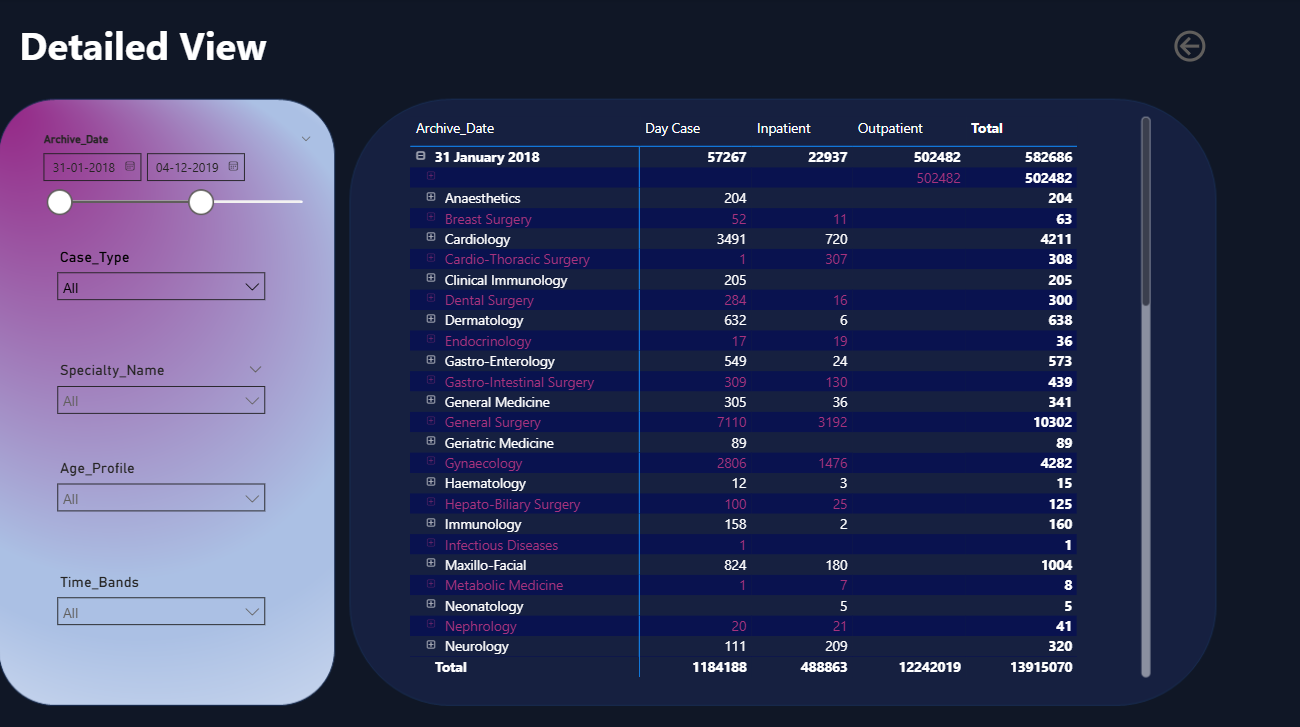

Layout of this report page (visuals, bound fields, positions):
{"tool":"powerbi","page":{"name":"Detail","canvas":[1280,720],"ordinal":1},"visuals":[{"type":"textbox","box":[16,16,256,80],"z":0},{"type":"slicer","fields":{"Values":["All_Data.Archive_Date"]},"box":[32,128,288,144],"z":1000},{"type":"slicer","fields":{"Values":["All_Data.Case_Type"]},"box":[48,240,224,96],"z":2000},{"type":"slicer","fields":{"Values":["All_Data.Specialty_Name"]},"box":[48,352,224,80],"z":3000},{"type":"slicer","fields":{"Values":["All_Data.Age_Profile"]},"box":[48,448,224,80],"z":4000},{"type":"slicer","fields":{"Values":["All_Data.Time_Bands"]},"box":[48,560,224,80],"z":5000},{"type":"pivotTable","fields":{"Rows":["All_Data.Archive_Date","All_Data.Specialty_Name","All_Data.Age_Profile","All_Data.Time_Bands"],"Columns":["All_Data.Case_Type"],"Values":["Sum(All_Data.Total)"]},"box":[400,112,736,560],"z":6000},{"type":"actionButton","box":[1149.7,27,51.5,40.5],"z":7000}]}

Visuals, with their boxes in screenshot pixels (x1, y1, x2, y2), scaled from the page's 1280x720 canvas onto the 1300x727 screenshot:
textbox: (16, 16, 276, 97)
slicer - All_Data.Archive_Date: (32, 129, 325, 275)
slicer - All_Data.Case_Type: (49, 242, 276, 339)
slicer - All_Data.Specialty_Name: (49, 355, 276, 436)
slicer - All_Data.Age_Profile: (49, 452, 276, 533)
slicer - All_Data.Time_Bands: (49, 565, 276, 646)
pivotTable - All_Data.Archive_Date x All_Data.Specialty_Name: (406, 113, 1154, 679)
actionButton: (1168, 27, 1220, 68)
